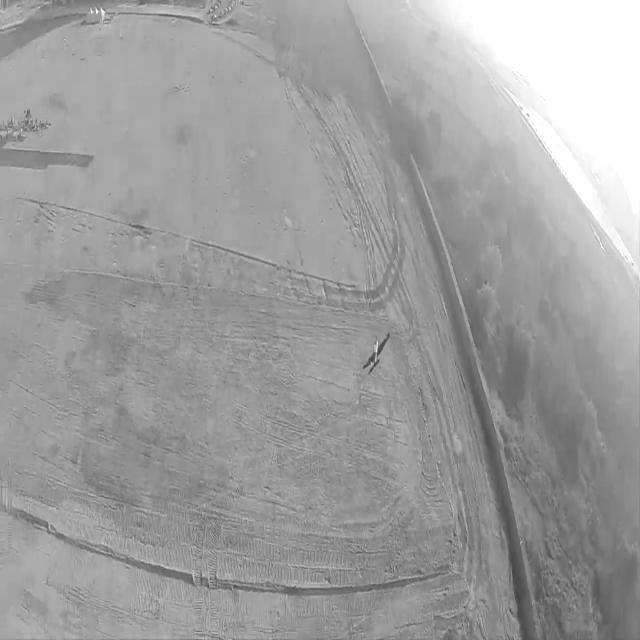iha: (359, 324, 390, 377)
